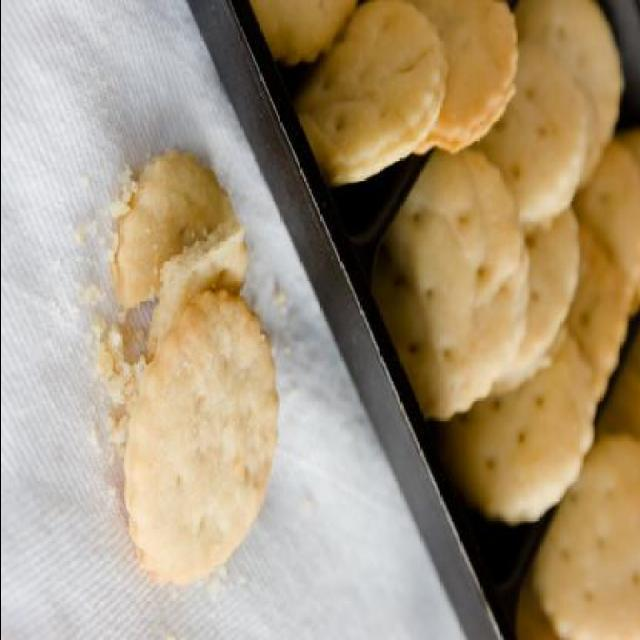Ritz cracker packaged: (109, 281, 277, 613)
